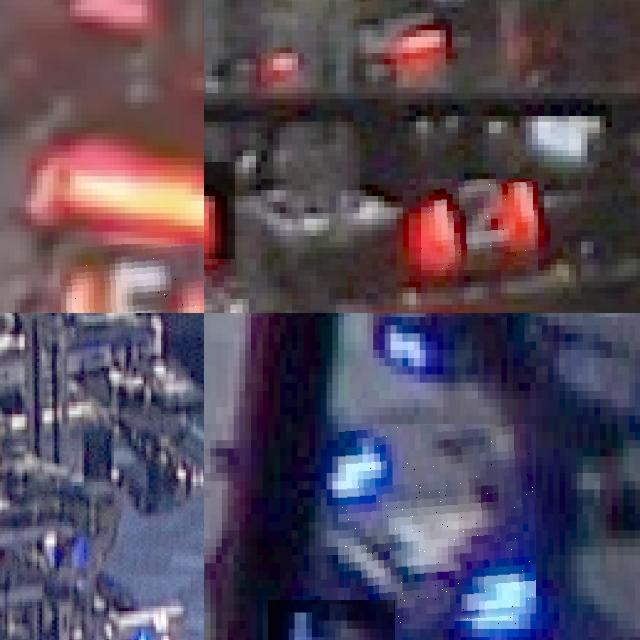B4: (338, 424, 536, 629), (268, 600, 396, 640)
R2: (421, 179, 538, 270), (204, 162, 236, 259)
R5: (53, 244, 204, 313)
